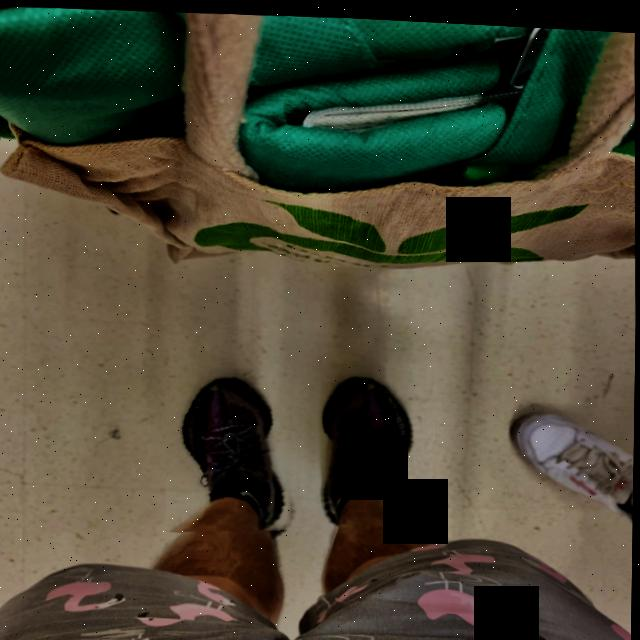shoe: (164, 361, 309, 536), (296, 356, 437, 524), (504, 393, 636, 538)
